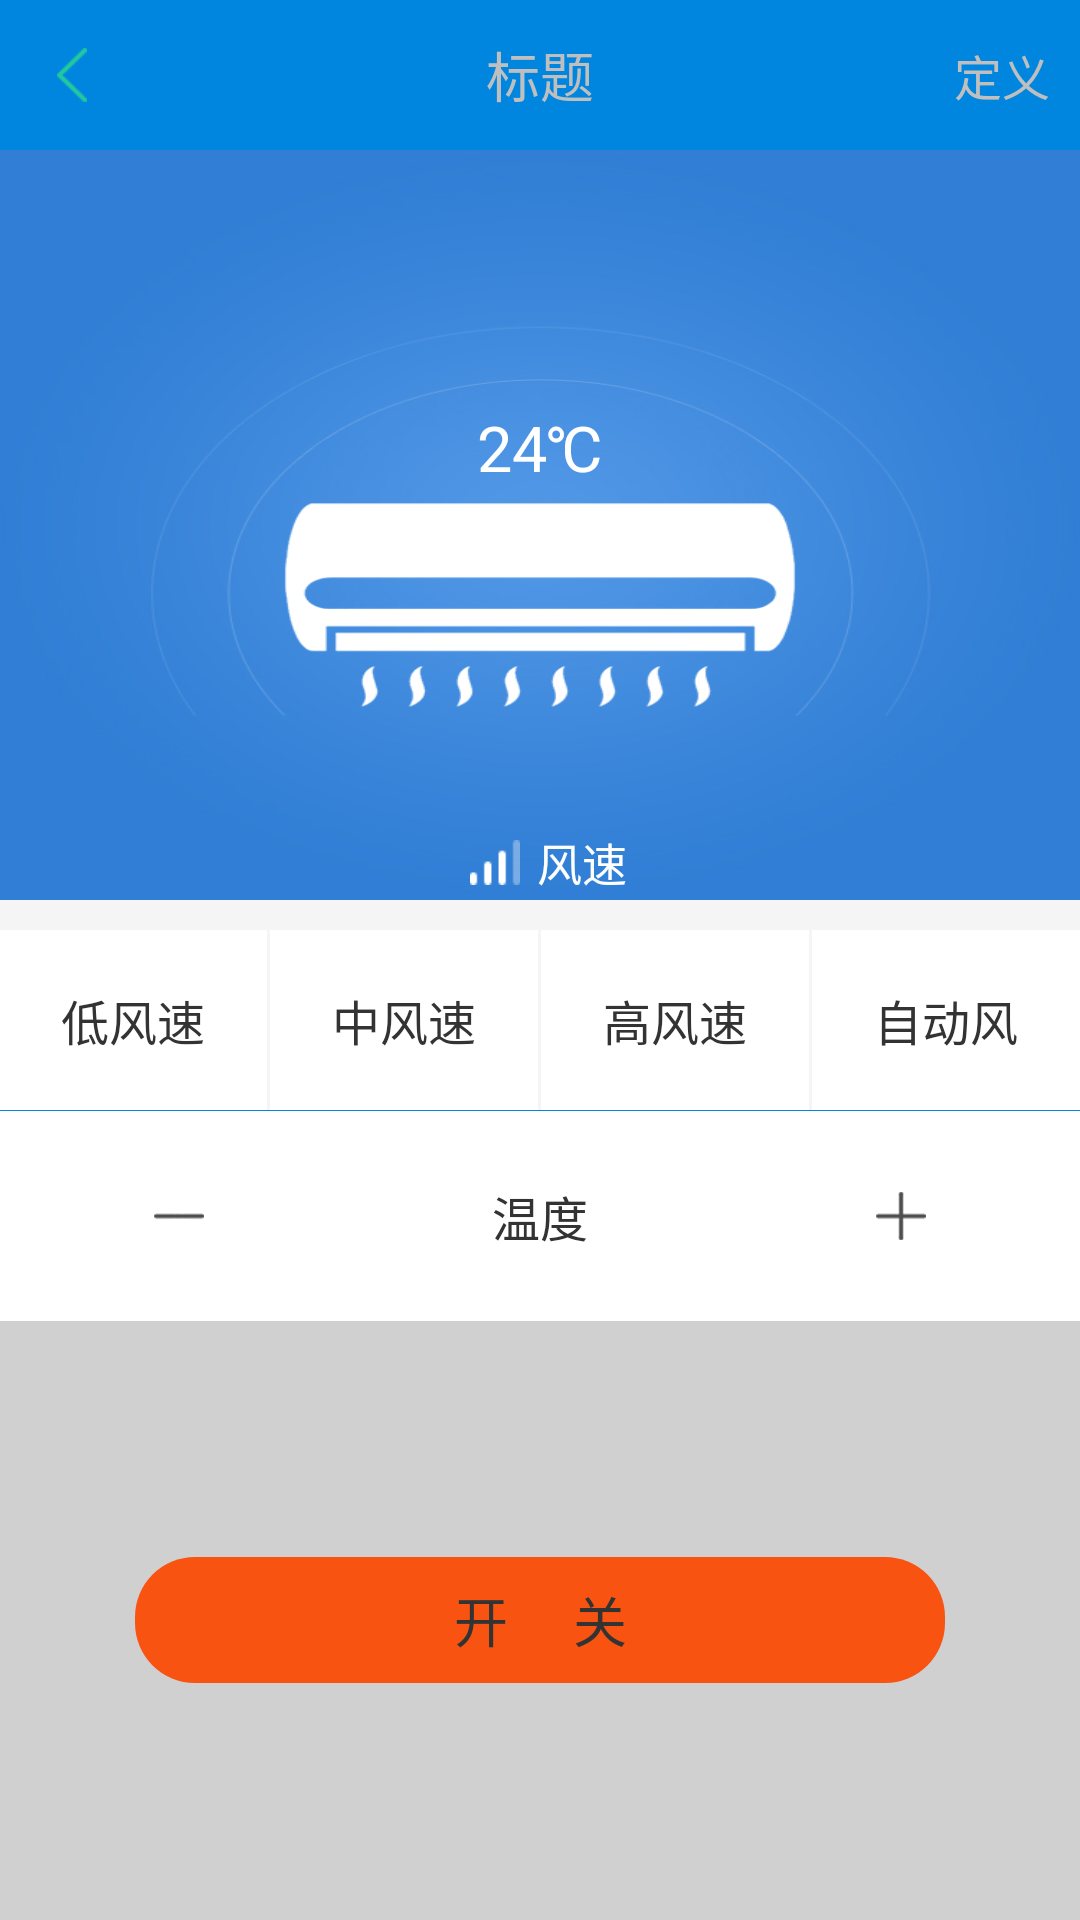

Named icons in this screenshot (1080*1920) and their centers, [x,y]:
air add: [901,1216]
air speeds: [495,862]
return: [72,75]
